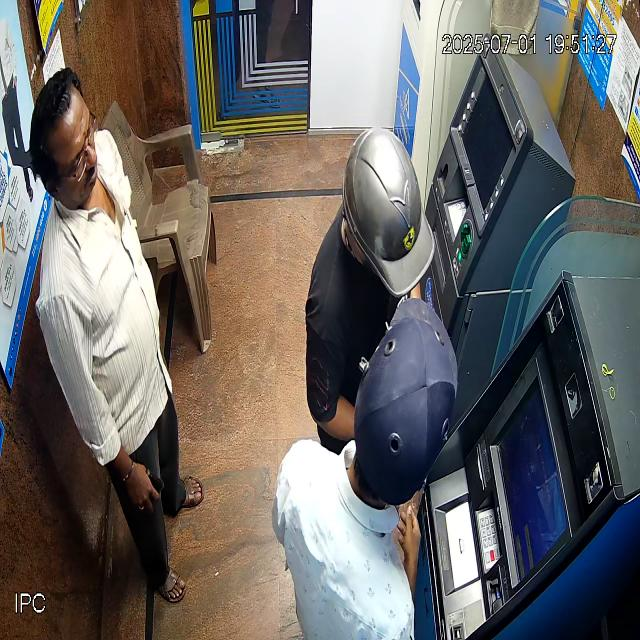helmet: (355, 297, 457, 505), (343, 127, 438, 297)
no_helmet: (28, 67, 99, 212)
